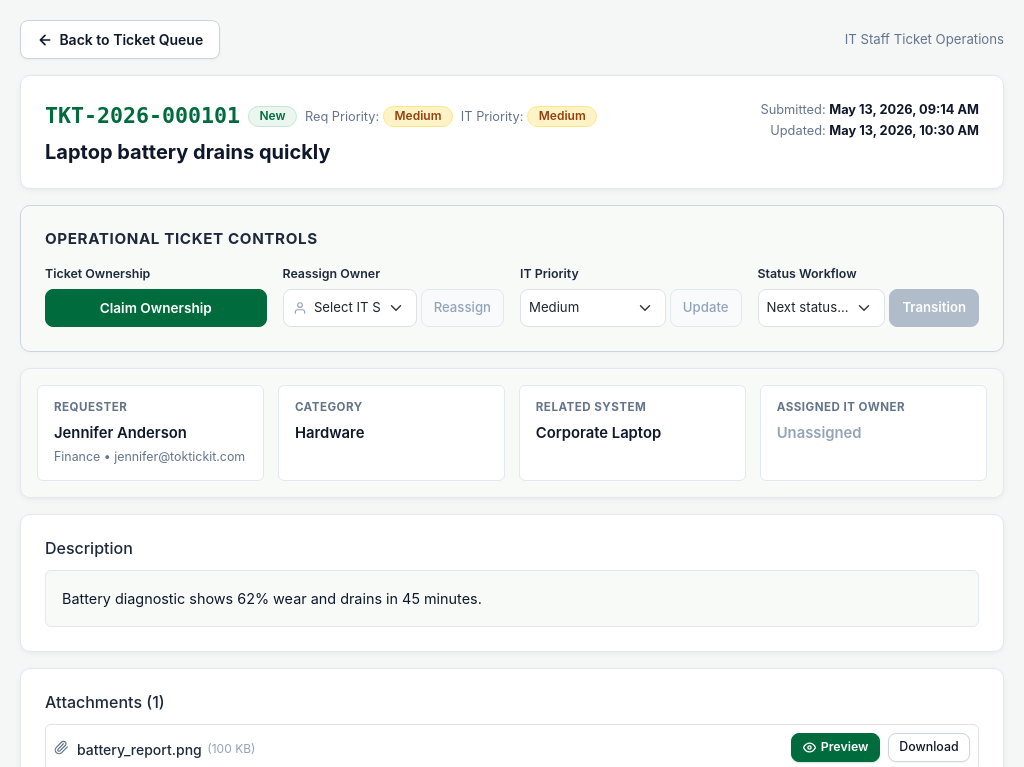
Test case: StaffTicketDetail Component (StaffTicketDetail.test.tsx) › UI-06: Ticket Operational Controls › updates IT Priority to URGENT
Expected: the text "TKT-2026-000101" is shown, [45,100,240,132]
Select "Urgent" in the dropdown with test id "it-priority-select" at (593, 308), box [520,289,666,327]
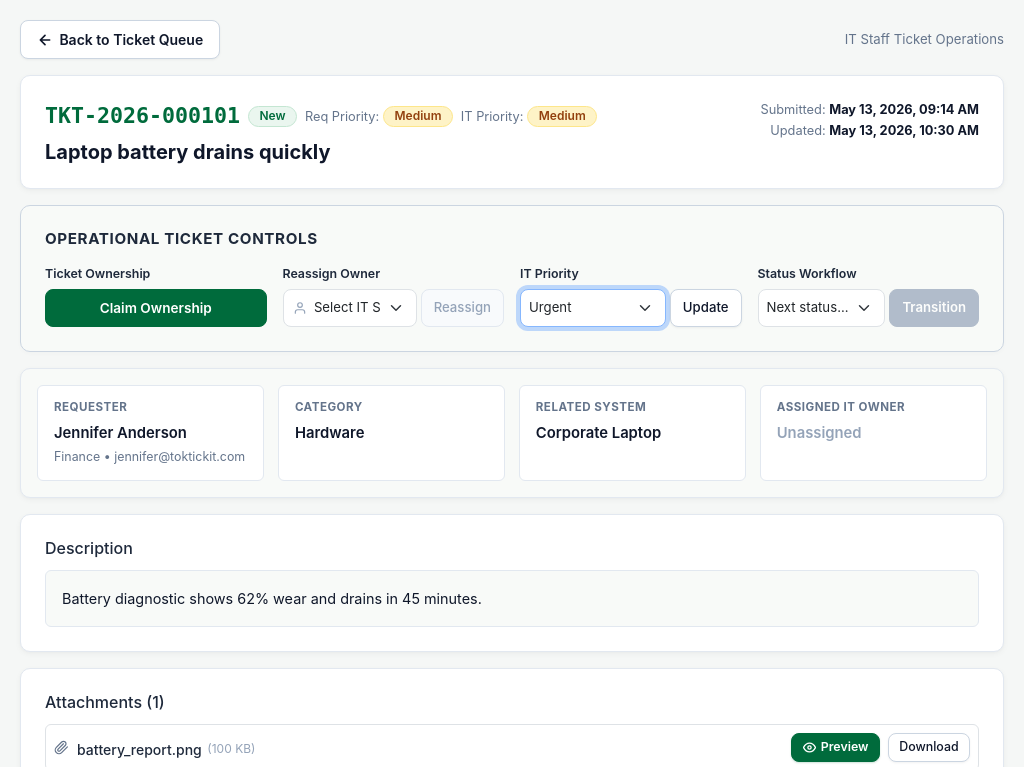
Click the button with test id "update-priority-btn" at (706, 308), box [670,289,742,327]
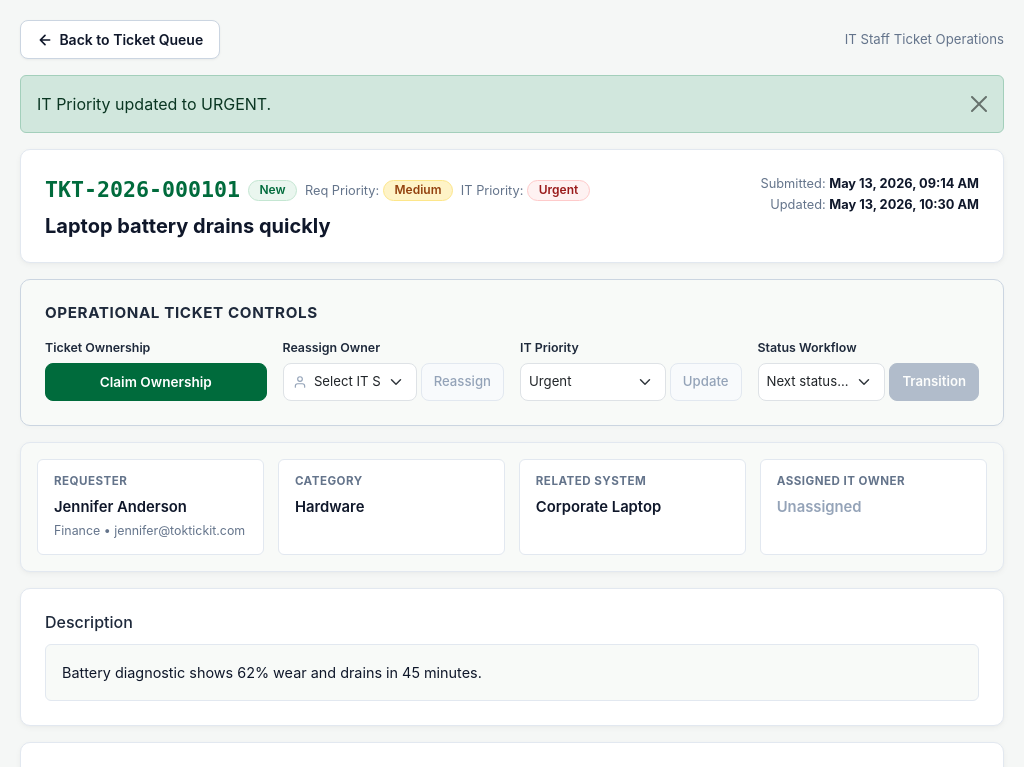
Expected: the message with test id "action-success-alert" reads "IT Priority updated to URGENT.", [37,94,271,114]
